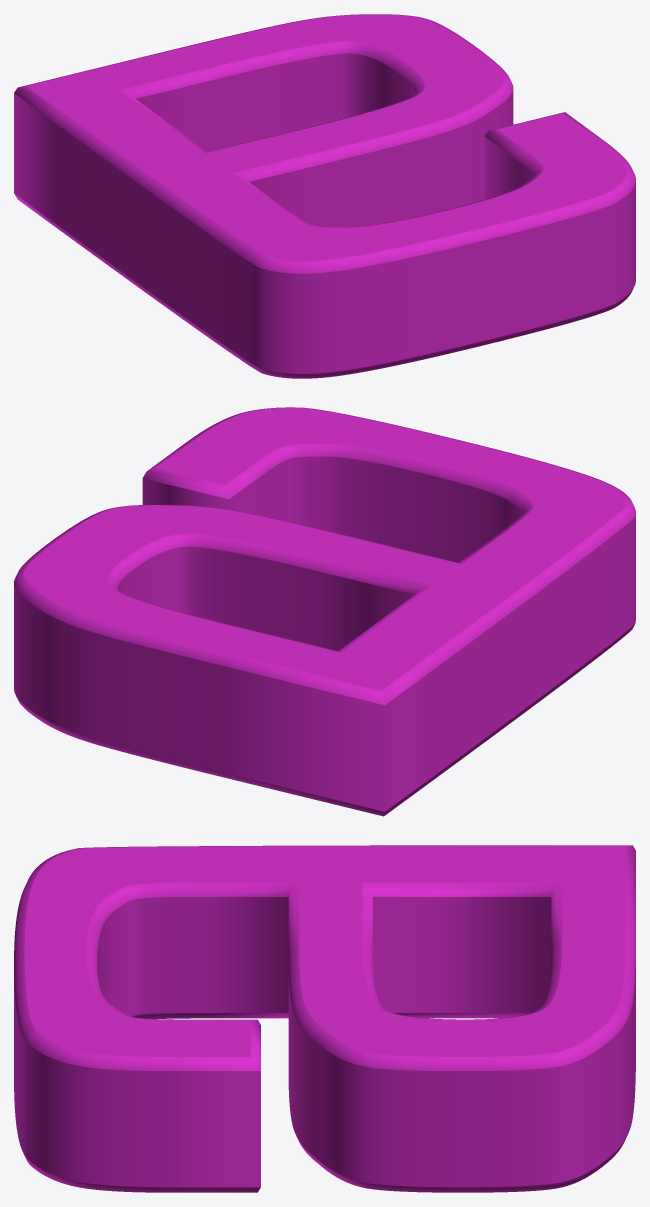
The model's file is Letter_a_CoolFont.fbx.
The picture shows the model from 3 angles, top to bottom: view 1: azimuth 30°, elevation 25°; view 2: azimuth 150°, elevation 25°; view 3: azimuth 270°, elevation 25°; orthographic projection. The views are drawn at different scales.
Parts seen in each view (by area): view 1: Letter_a; view 2: Letter_a; view 3: Letter_a.
Part boxes in pixels (<box>): Letter_a: <box>14,14,635,378</box>; Letter_a: <box>14,407,635,816</box>; Letter_a: <box>14,845,635,1192</box>.
Bounding box in the file's own units: 0.4886 × 0.14 × 0.5828.
